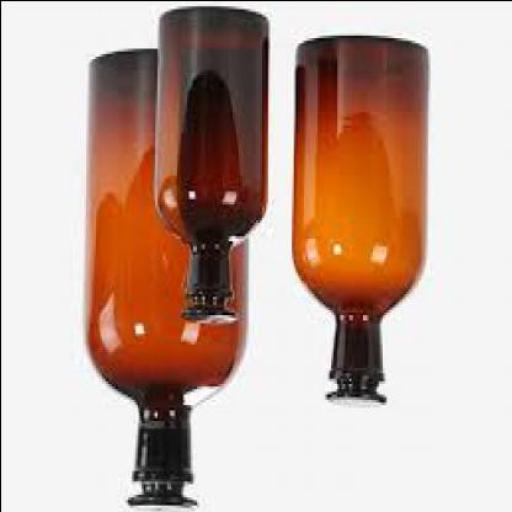glass: (88, 50, 248, 510), (294, 37, 431, 409), (160, 2, 270, 325)
